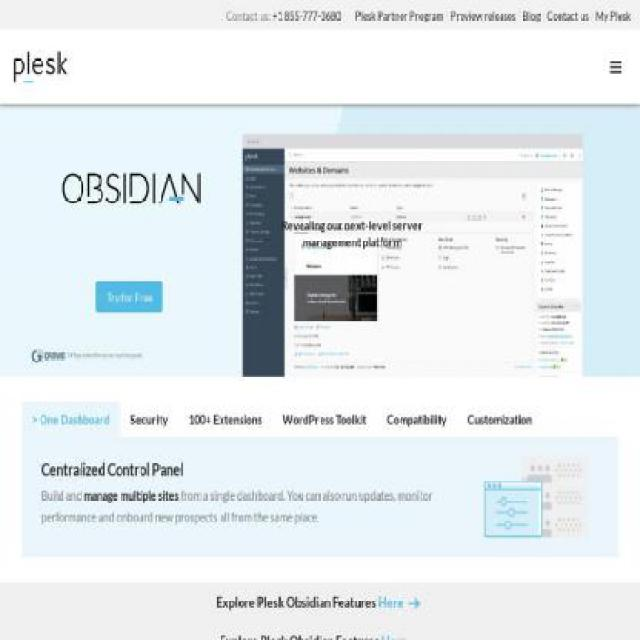button: (272, 401, 377, 437), (22, 401, 120, 437), (179, 401, 272, 437), (458, 401, 542, 437), (377, 401, 457, 437), (120, 401, 178, 437), (352, 12, 448, 21), (447, 12, 519, 21), (544, 12, 593, 21), (592, 12, 634, 21), (519, 12, 544, 21)
